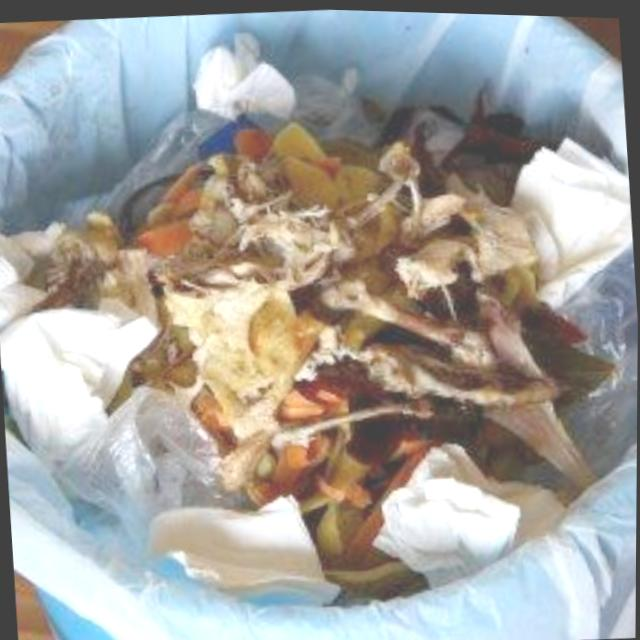Garbage: (0, 119, 591, 602)
contaminated_waste: (0, 308, 216, 539)
